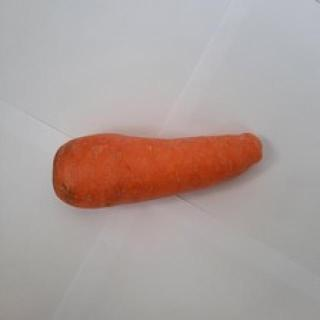carrot: (54, 130, 266, 210)
